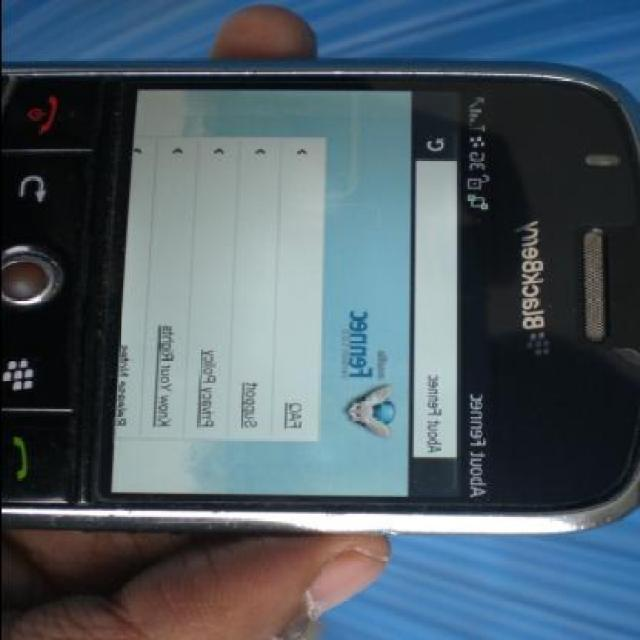phone: (0, 56, 640, 536)
